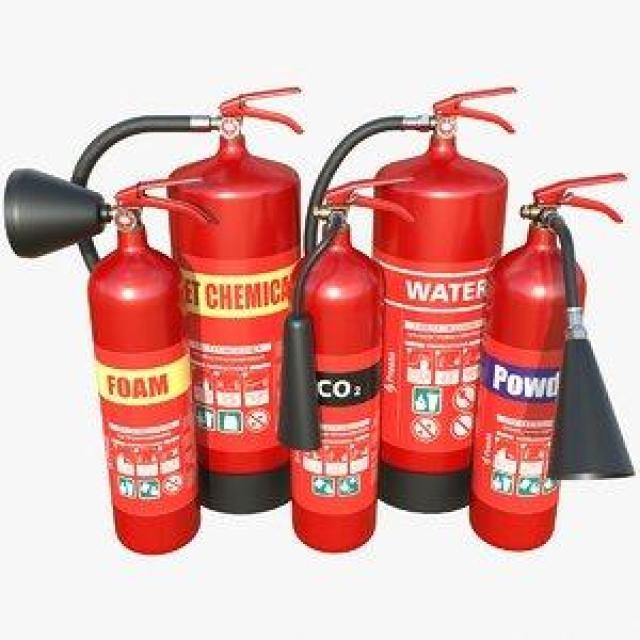FireExtinguisher: (56, 76, 306, 518), (286, 81, 520, 514), (0, 167, 218, 558), (464, 165, 634, 554), (272, 165, 417, 558)
